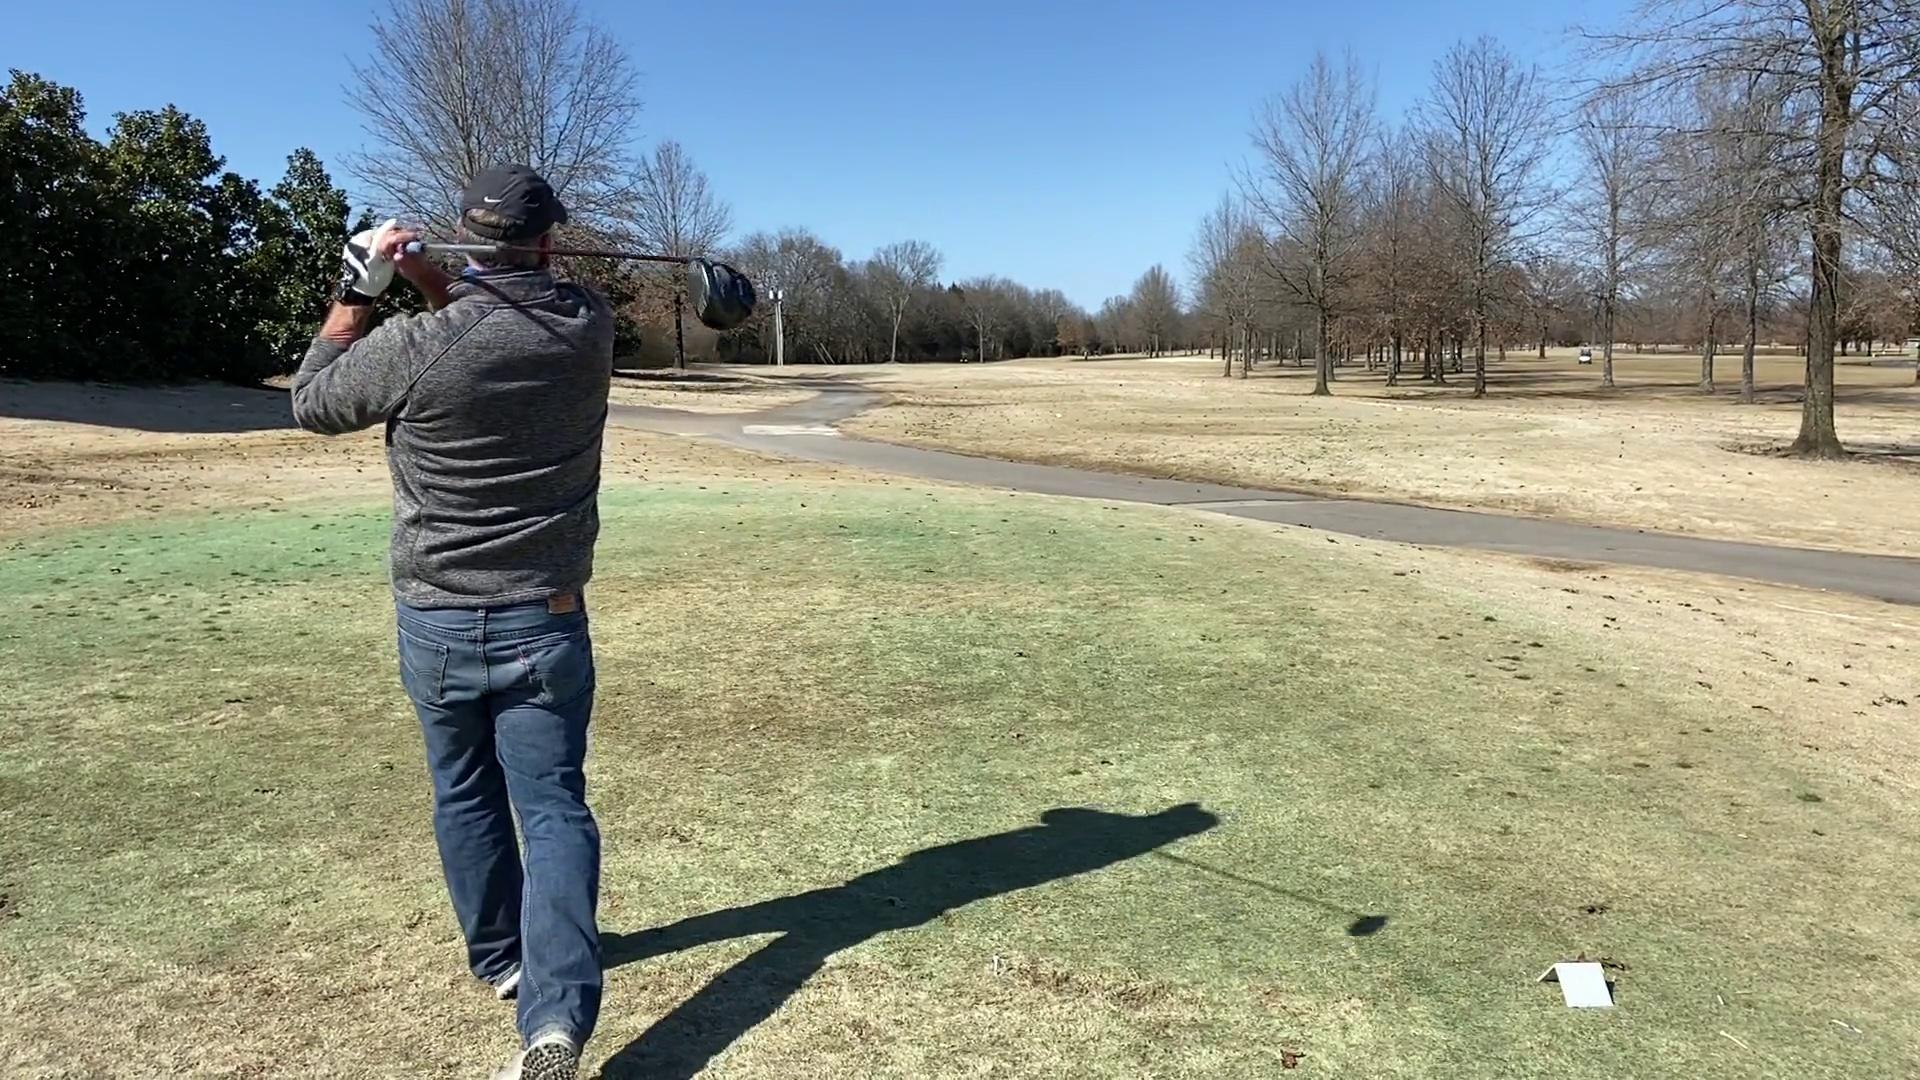ClubHead: (669, 257, 760, 330)
